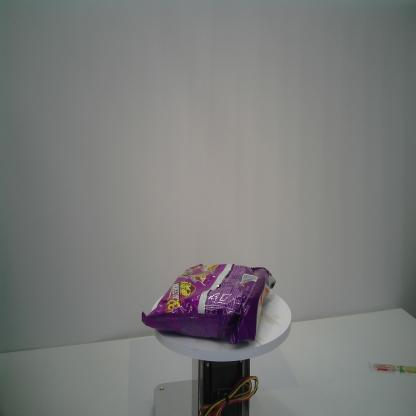Instant Noodles: (141, 262, 277, 346)
